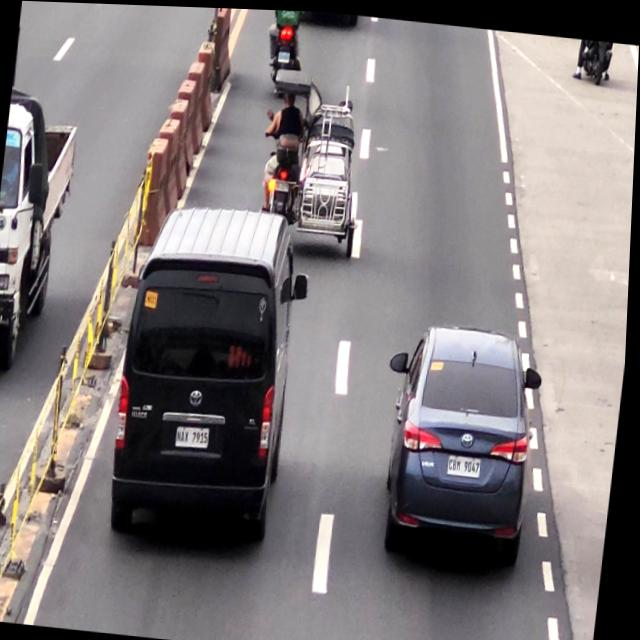Car: (117, 199, 308, 546), (386, 319, 547, 574)
License-Plate: (450, 450, 486, 478), (178, 423, 214, 450)
Tricycle: (260, 70, 373, 247)
